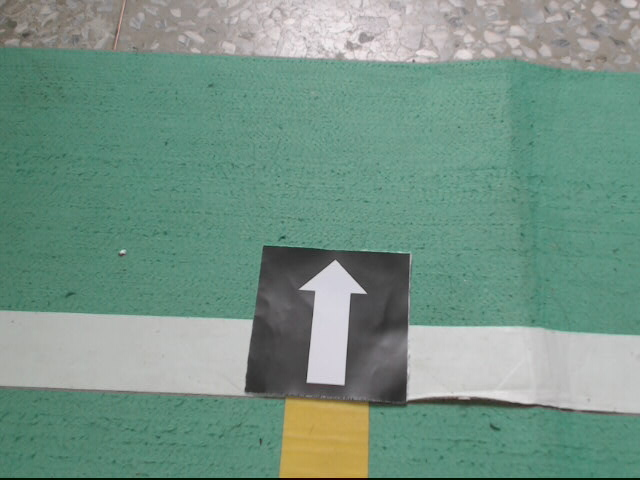straight: (245, 246, 416, 402)
